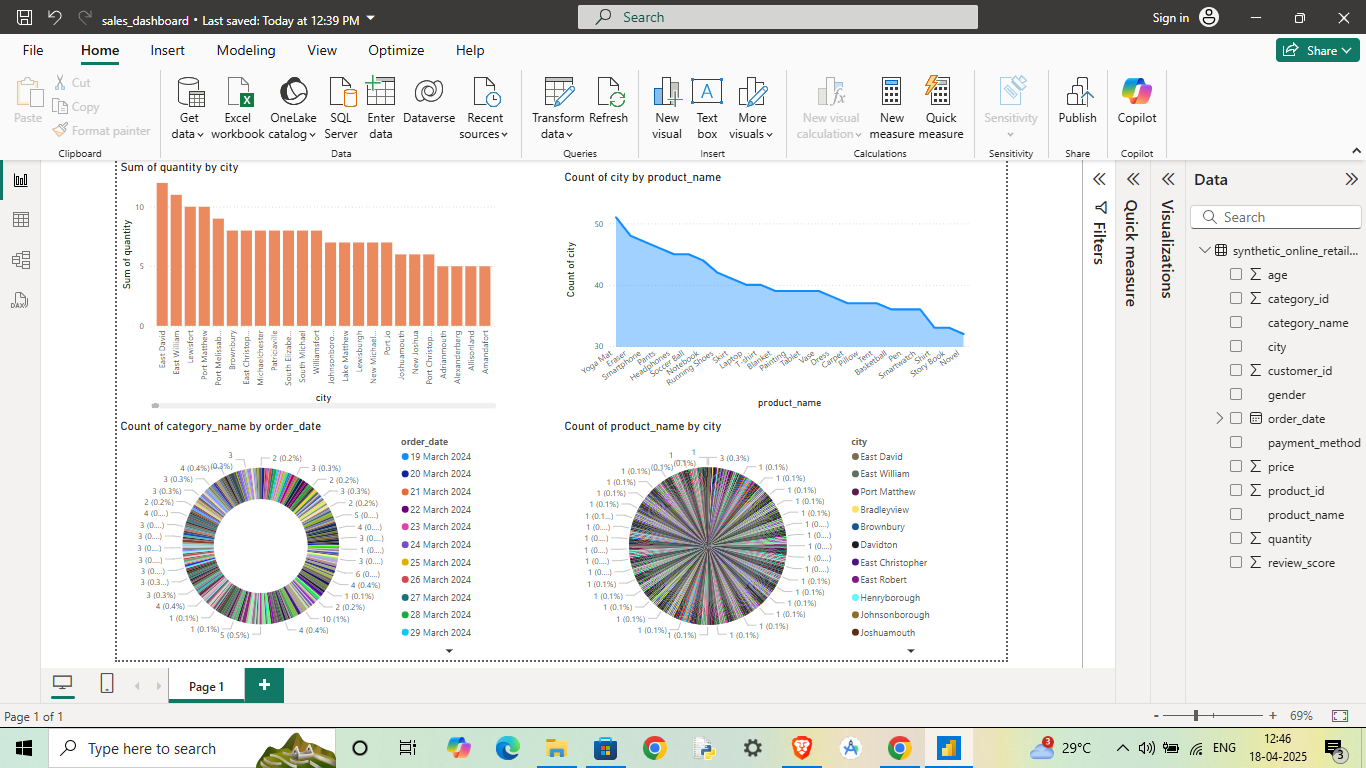

The page's visual inventory and layout, read from the dashboard file:
{"tool":"powerbi","page":{"name":"Page 1","canvas":[1280,720],"ordinal":0},"visuals":[{"type":"clusteredColumnChart","fields":{"Category":["synthetic_online_retail_data.city"],"Y":["Sum(synthetic_online_retail_data.quantity)"]},"box":[0,0,551,362.8],"z":0},{"type":"stackedAreaChart","fields":{"Category":["synthetic_online_retail_data.product_name"],"Y":["CountNonNull(synthetic_online_retail_data.city)"]},"box":[640,15.1,593,347.7],"z":1},{"type":"donutChart","fields":{"Category":["synthetic_online_retail_data.order_date"],"Y":["CountNonNull(synthetic_online_retail_data.category_name)"]},"box":[0,373,551,347],"z":2},{"type":"pieChart","fields":{"Category":["synthetic_online_retail_data.city"],"Y":["CountNonNull(synthetic_online_retail_data.product_name)"]},"box":[640,373,593,347],"z":3}]}

Visuals, with their boxes on the page's 1280x720 design canvas (x1, y1, x2, y2). These are canvas units, not pixel positions in the 1366x768 screenshot, which may show the page scaled, cropped or inside an application window:
clusteredColumnChart - synthetic_online_retail_data.city x Sum(synthetic_online_retail_data.quantity): select_region(0, 0, 551, 363)
stackedAreaChart - synthetic_online_retail_data.product_name x CountNonNull(synthetic_online_retail_data.city): select_region(640, 15, 1233, 363)
donutChart - synthetic_online_retail_data.order_date x CountNonNull(synthetic_online_retail_data.category_name): select_region(0, 373, 551, 720)
pieChart - synthetic_online_retail_data.city x CountNonNull(synthetic_online_retail_data.product_name): select_region(640, 373, 1233, 720)
